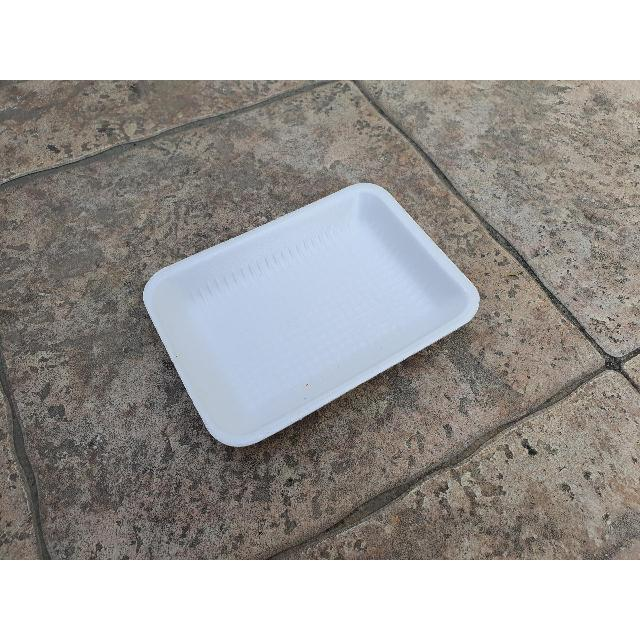Plastico descartable: (141, 183, 481, 450)
